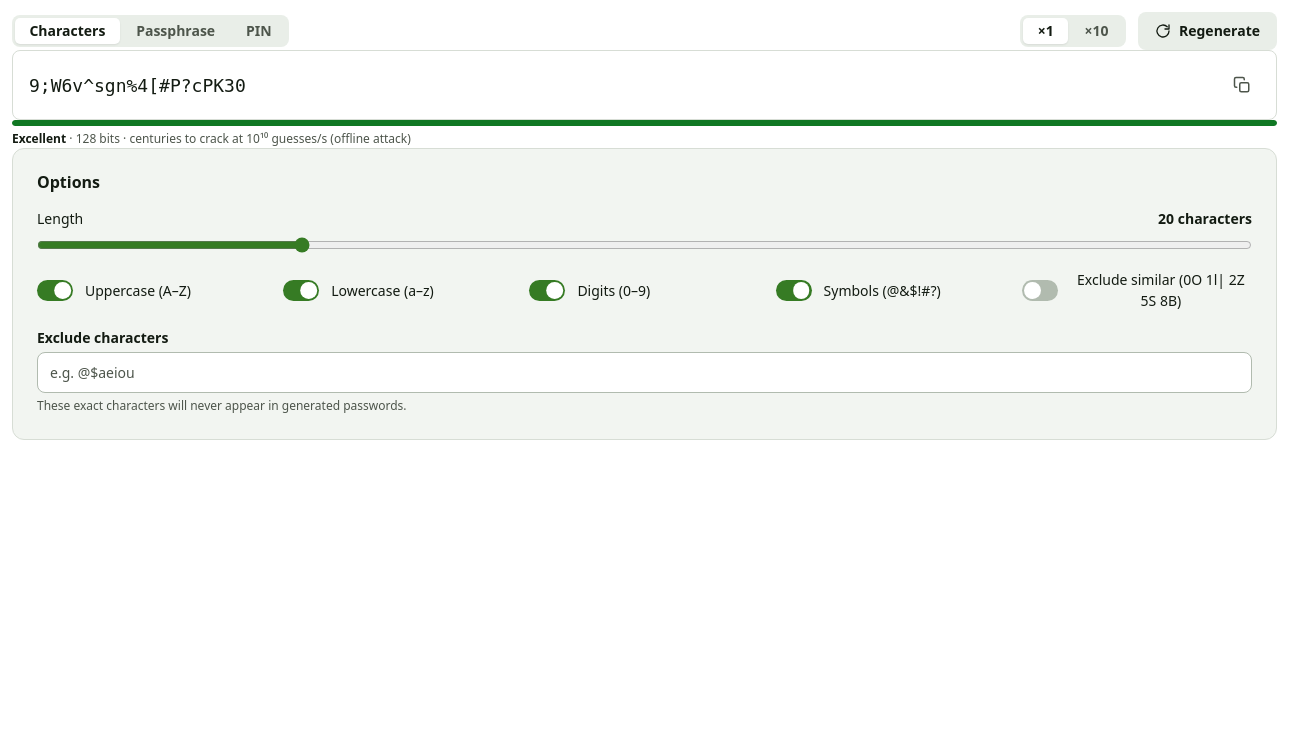
Test: GeneratorView — character mode › copies to the clipboard and confirms
Click the button named "copy" at (1242, 85), box [1224,67,1260,103]
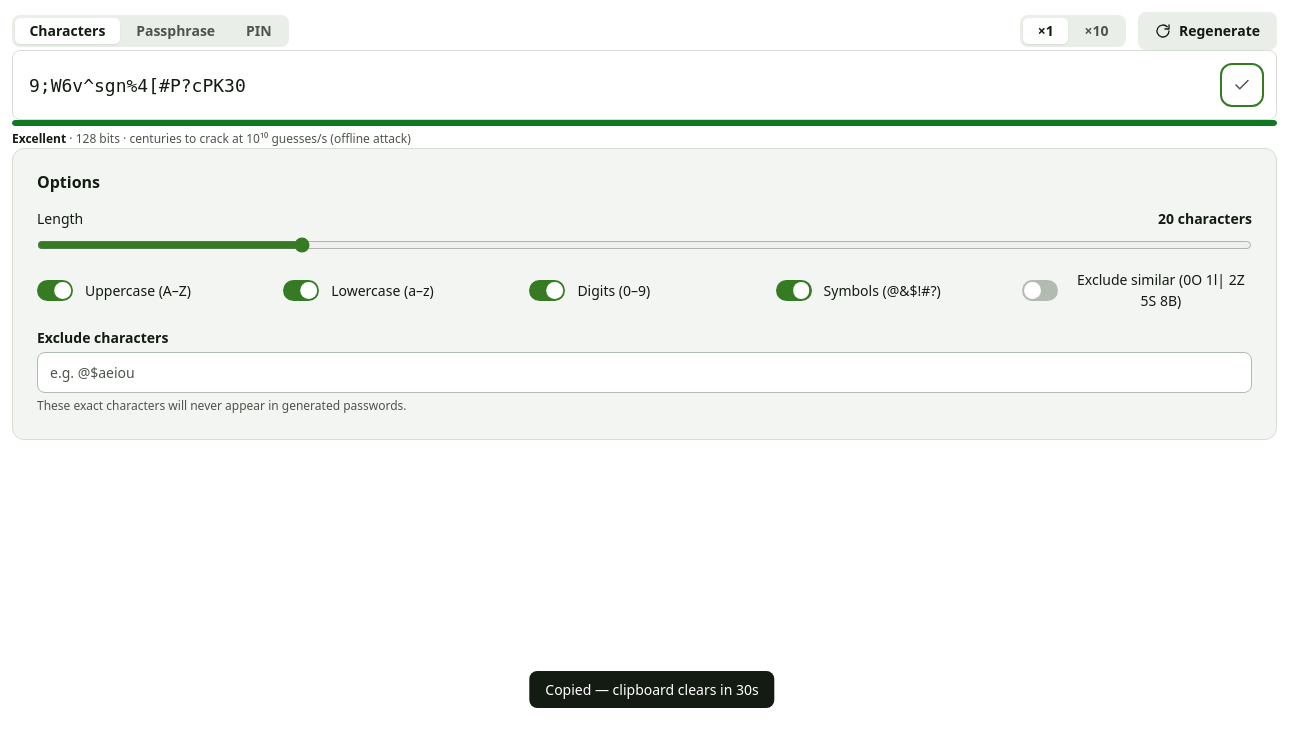
Result: the button named "copied" is shown at [1224,67,1260,103]
